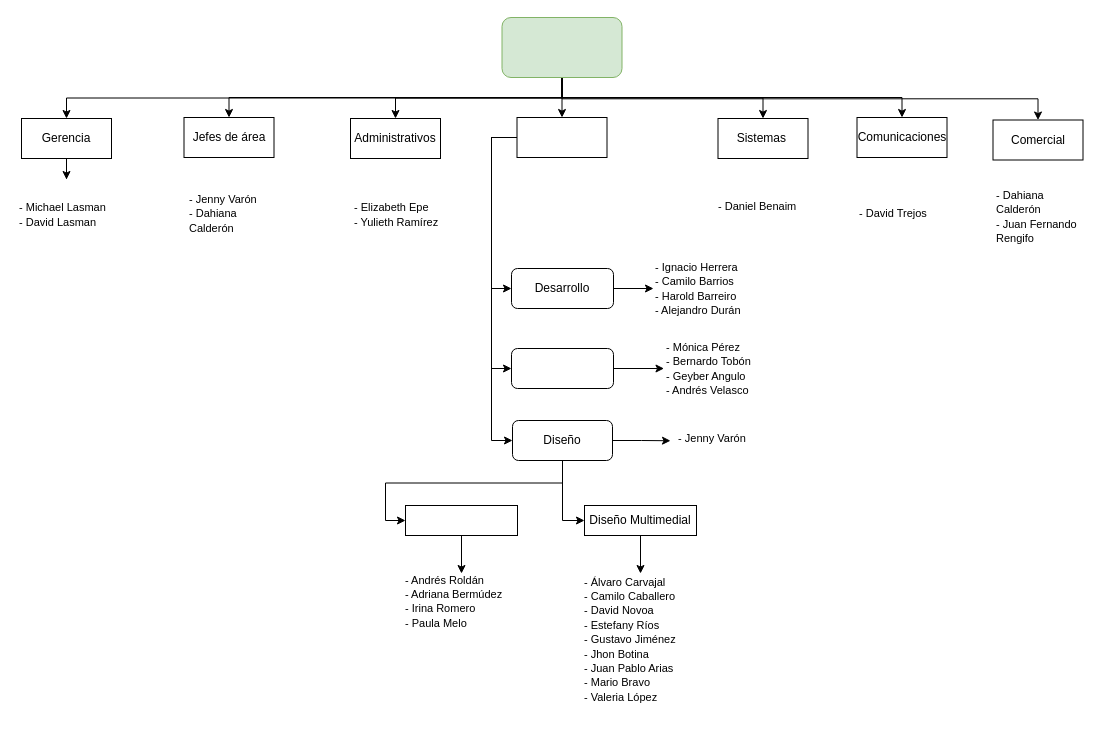
Image size: 1109x736. Some labels were removed from this diagram. Here are the shapes that lost their labels. From the top down, the centre of each, then its label:
the point at 561,47: Información General
the point at 561,137: Producción
the point at 562,368: Soporte
the point at 461,520: Diseño Instruccional
